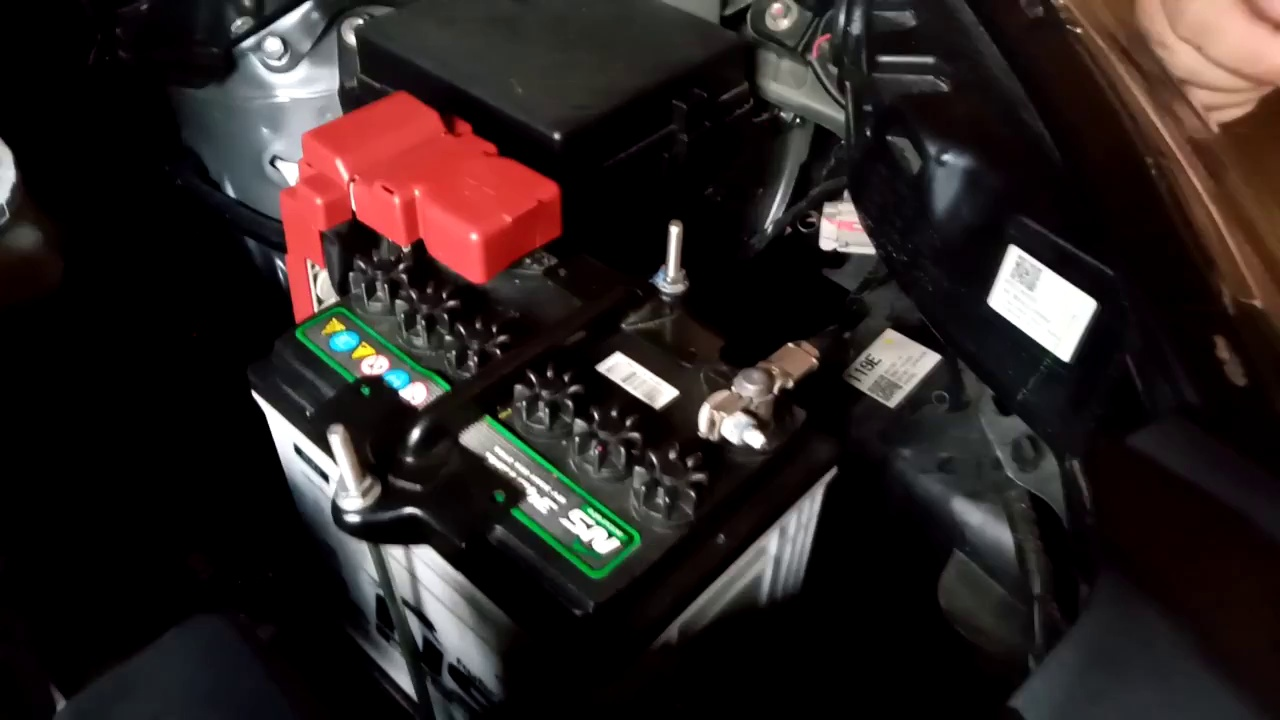battery: (262, 166, 828, 621)
neg_connected: (680, 301, 833, 475)
pos_connected: (305, 100, 578, 323)
